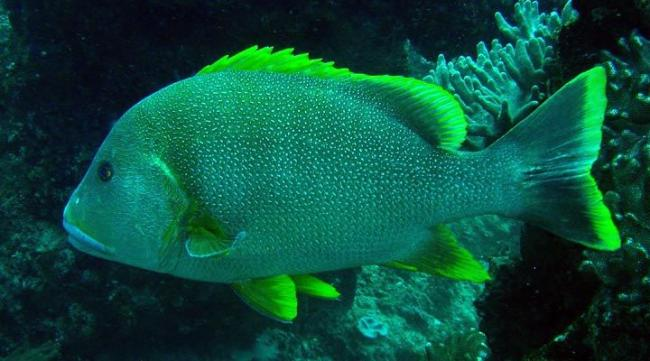fish: (61, 45, 623, 323)
